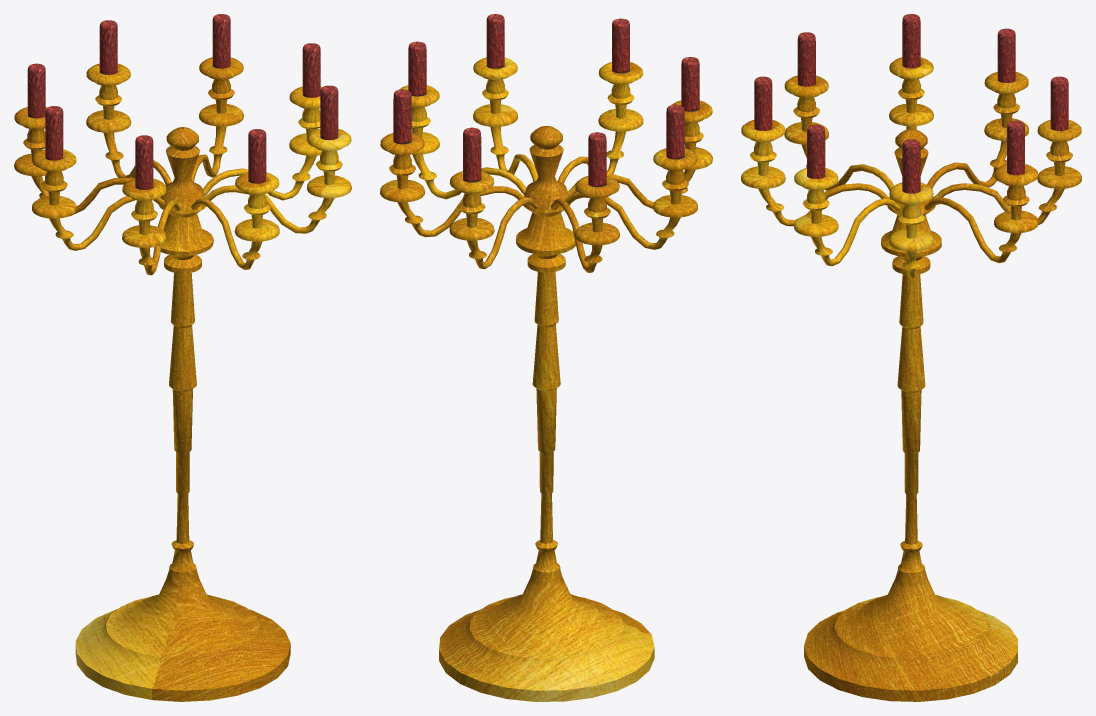
Rendered from candelabro_new.fbx.
3 views of the same model, side by side, from view 1: azimuth 30°, elevation 25°; view 2: azimuth 150°, elevation 25°; view 3: azimuth 270°, elevation 25° (orthographic).
Visible parts, largest first — view 1: Cylinder013; view 2: Cylinder013; view 3: Cylinder013.
Boxes of the visible parts, x1,y1,x2,y2 form: Cylinder013: [14, 14, 351, 701]; Cylinder013: [380, 14, 712, 701]; Cylinder013: [741, 14, 1081, 701].
Size of the model in its own units: 1.06 by 1.98 by 1.06.
